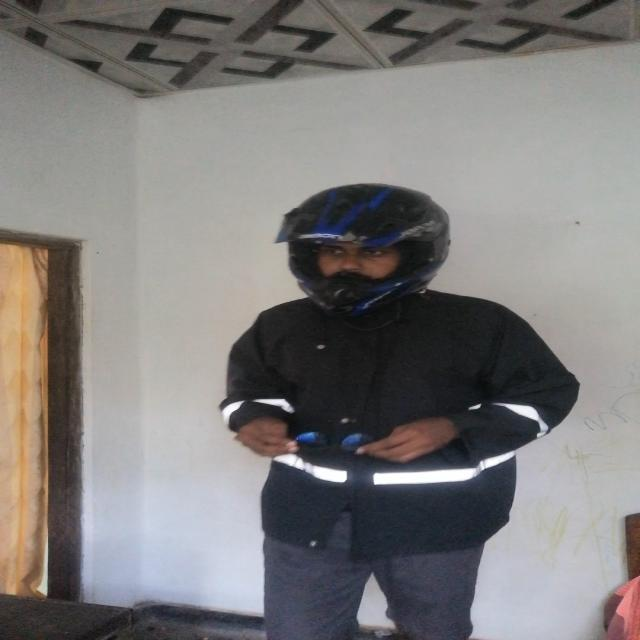Helmet_Wearer: (279, 183, 466, 324)
Jacket_Wearer: (231, 286, 567, 546)
Person: (215, 180, 591, 622)
